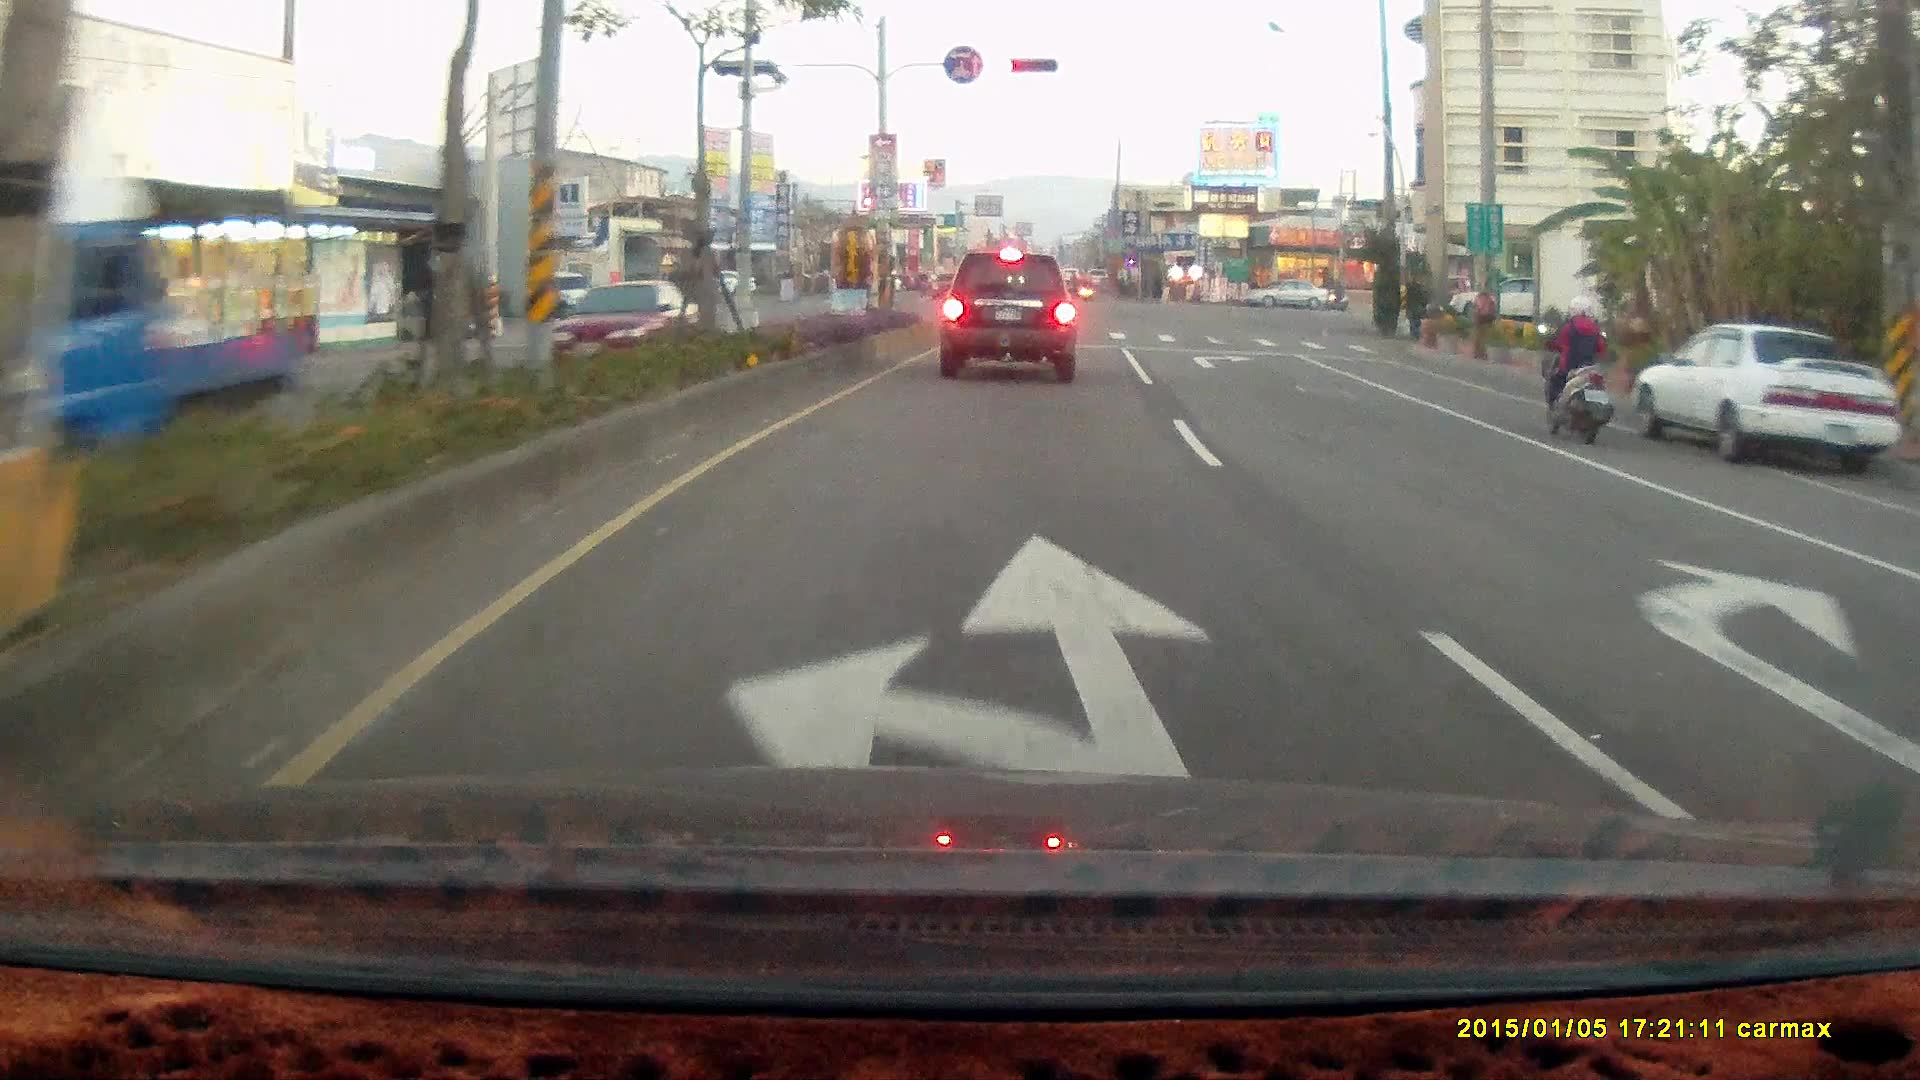rider: (1534, 293, 1616, 445), (1325, 275, 1352, 312)
vehicle: (1, 122, 300, 491), (1626, 319, 1898, 474), (1627, 325, 1903, 474), (938, 249, 1078, 383), (1896, 493, 1920, 836), (1883, 528, 1920, 690), (1448, 273, 1564, 325), (1238, 278, 1334, 314), (1240, 277, 1330, 311)
